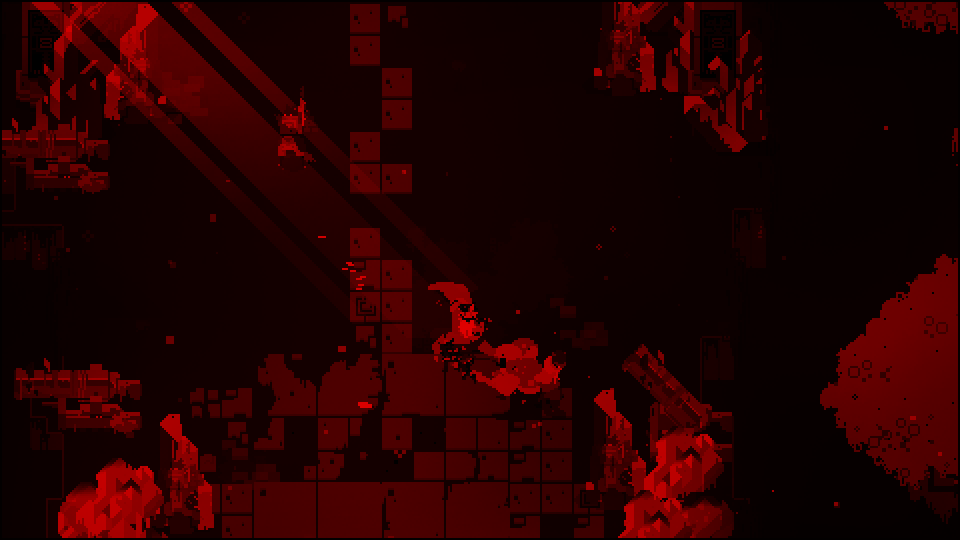hanged_man: (425, 278, 528, 386)
